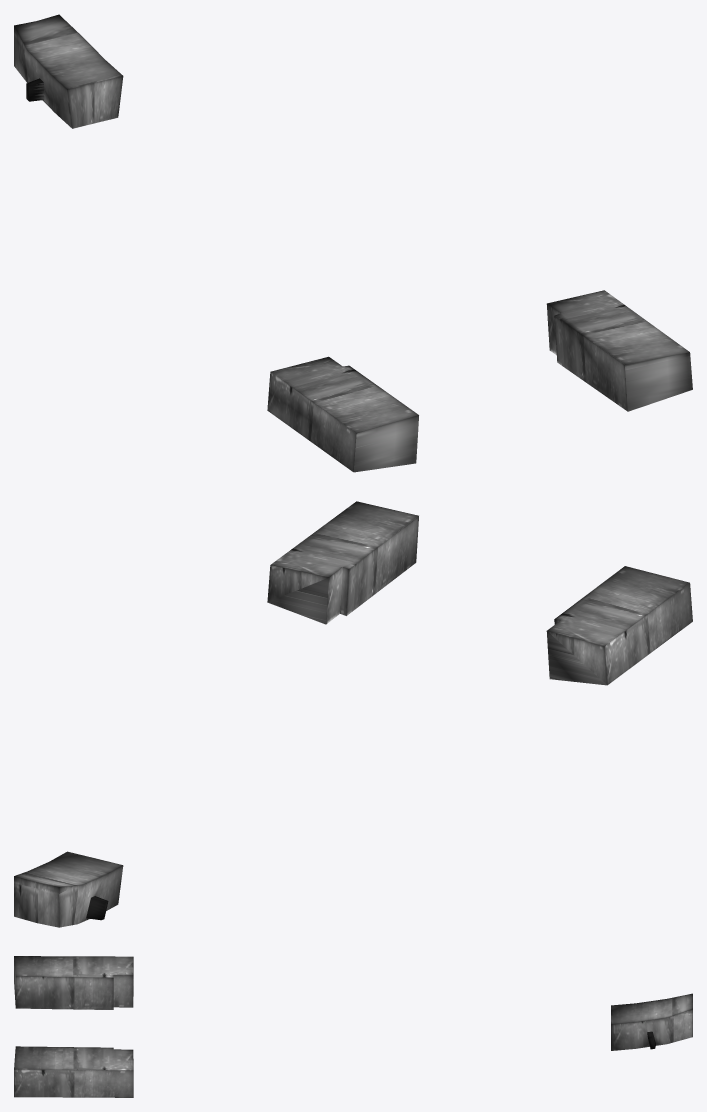
Rendered from gearBays.fbx.
The picture shows the model from 3 angles, top to bottom: view 1: azimuth 30°, elevation 25°; view 2: azimuth 150°, elevation 25°; view 3: azimuth 270°, elevation 25°; orthographic projection. The views are drawn at different scales.
Parts seen in each view (by area): view 1: Gear Bays; view 2: Gear Bays; view 3: Gear Bays.
Boxes of the visible parts, x1,y1,x2,y2 form: Gear Bays: (14, 14, 692, 472); Gear Bays: (14, 501, 692, 927); Gear Bays: (14, 956, 692, 1097).
Bounding box in the file's own units: 35.12 × 6.34 × 87.08.
